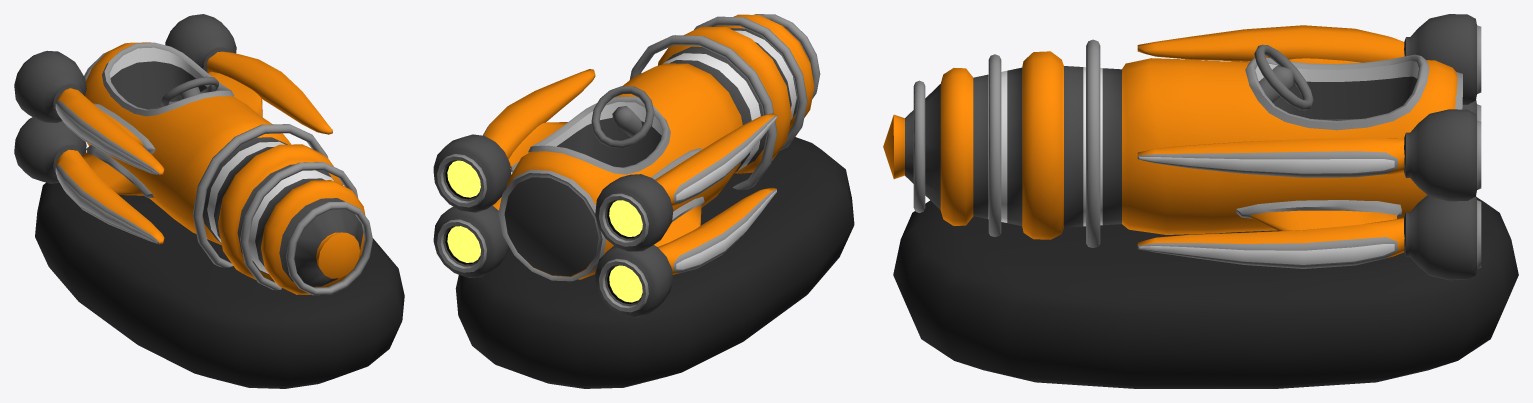
Rendered from mesh_Car_InGame_A.fbx.
3 views of the same model, side by side, from view 1: azimuth 30°, elevation 25°; view 2: azimuth 150°, elevation 25°; view 3: azimuth 270°, elevation 25° (orthographic). The views are drawn at different scales.
Visible parts, largest first — view 1: mesh_Car_InGame_A; view 2: mesh_Car_InGame_A; view 3: mesh_Car_InGame_A.
Boxes of the visible parts, x1,y1,x2,y2 form: mesh_Car_InGame_A: (14,14,404,388); mesh_Car_InGame_A: (433,14,854,388); mesh_Car_InGame_A: (883,14,1518,388).
Bounding box in the file's own units: 1.77 × 1.5 × 3.02.
